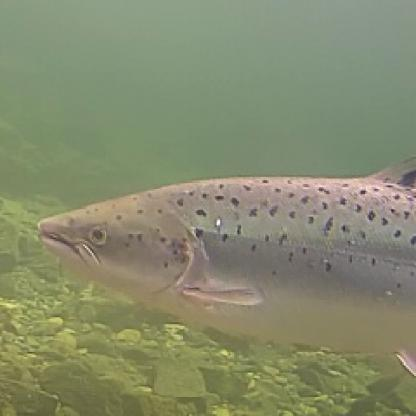salmon: (28, 146, 414, 388)
